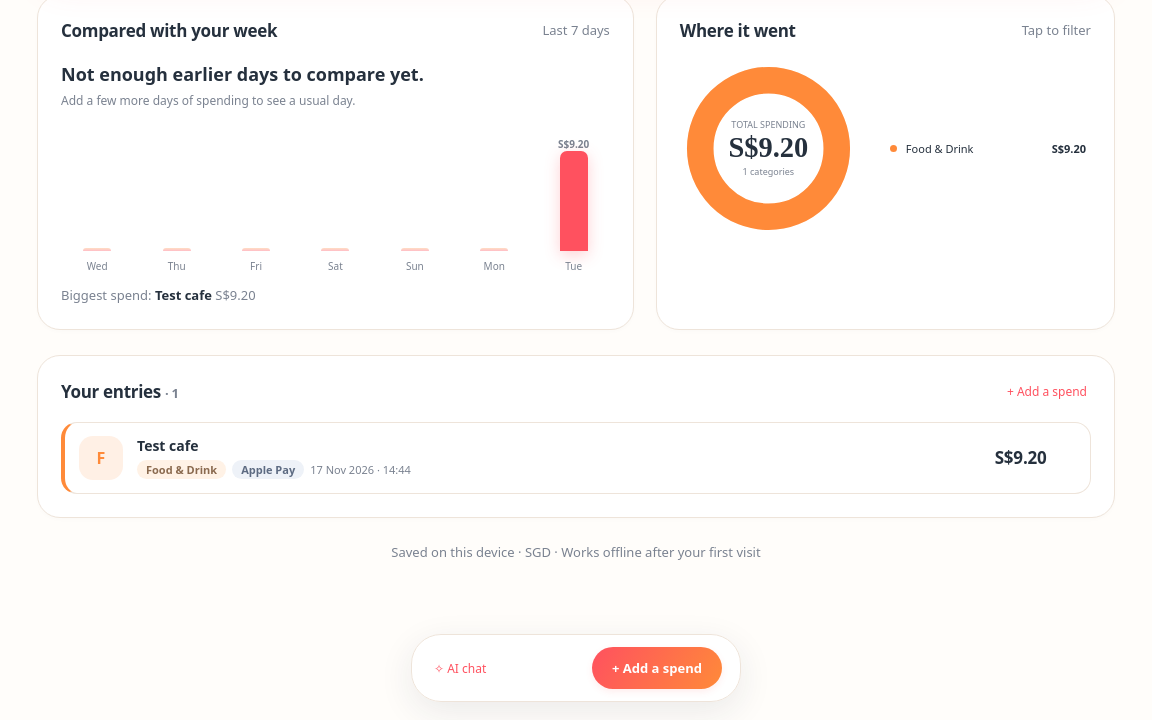
Test: manual tracker › edits entries while keeping notes out of the list
(page scrolled)
Expected: the text "Personal share" is not shown
Click the button with aria-label "Edit Test cafe" at (101, 458), box [61,422,1091,494]
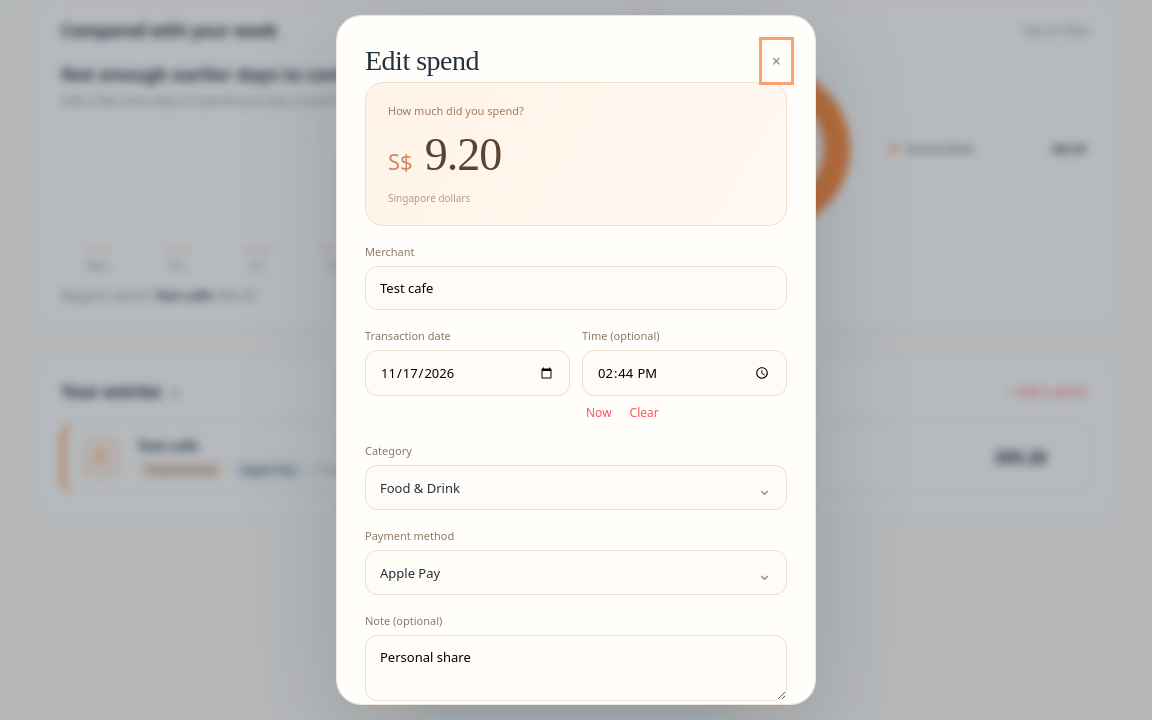
Expected: the text box labelled "Note (optional)" holds "Personal share", [365,635,787,701]
Replace the text in the field named "Amount (SGD)" with "10.10" at (593, 155), box [423,126,764,183]
(page scrolled)
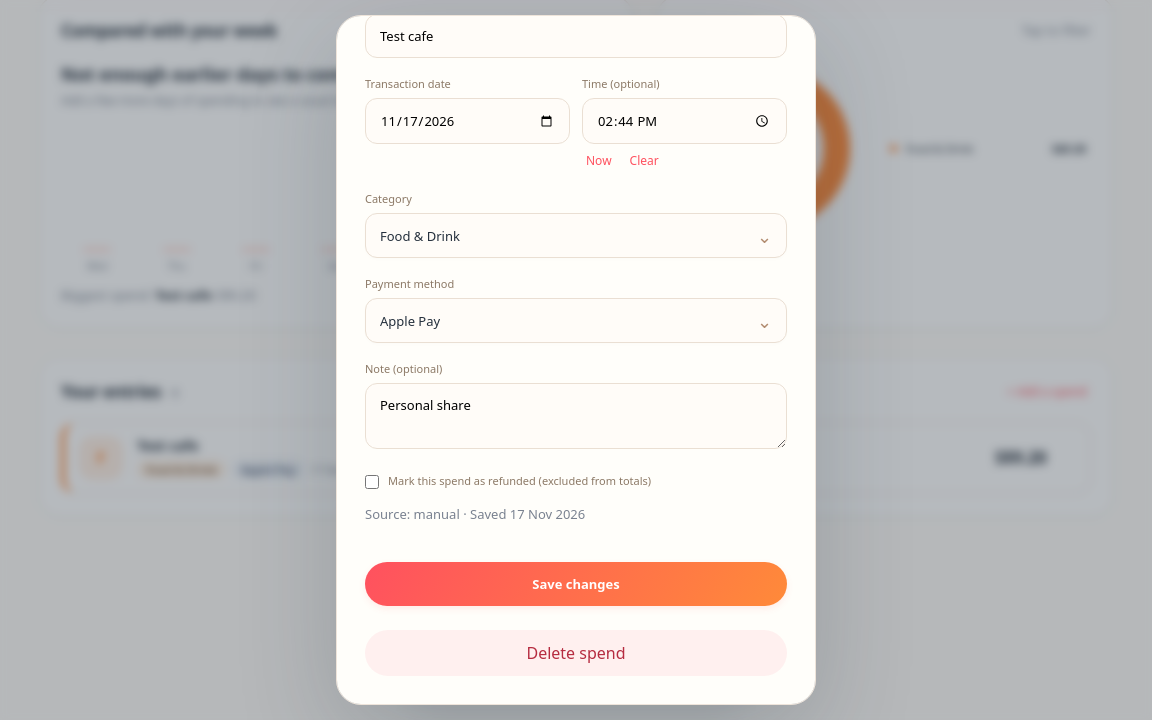
Click the button "Save changes" at (576, 584), box [365,562,787,606]
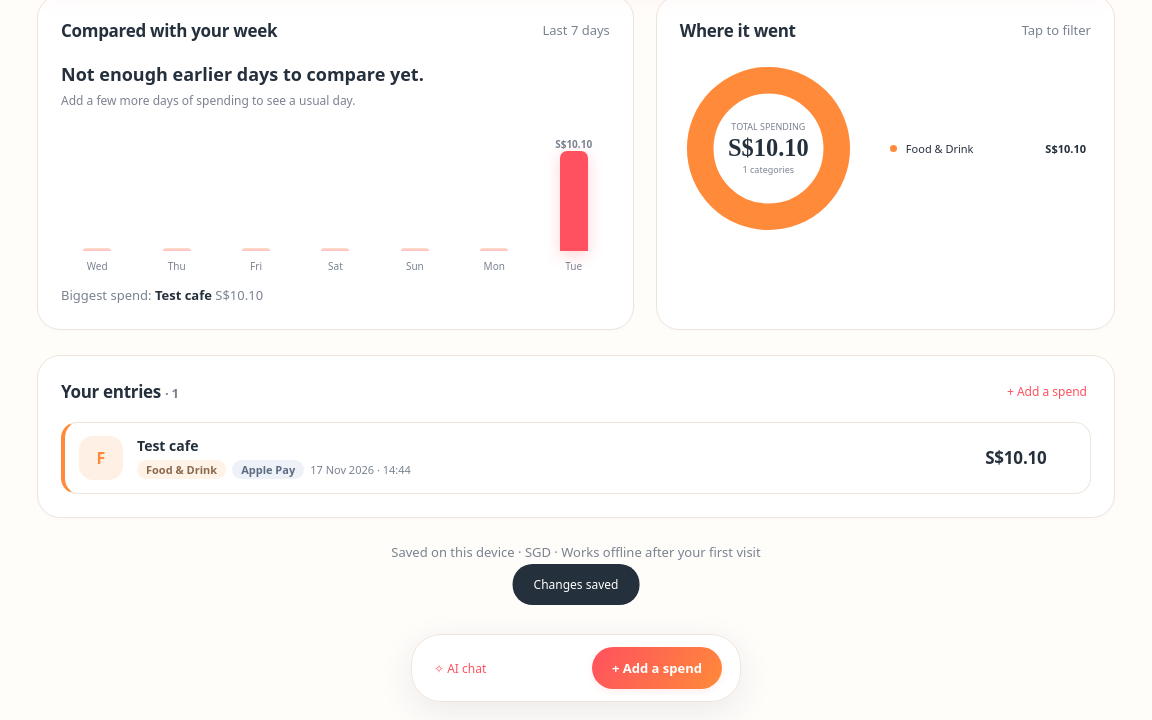
Expected: the button with aria-label "Edit Test cafe, S$10.10" is shown, [61,422,1091,494]
